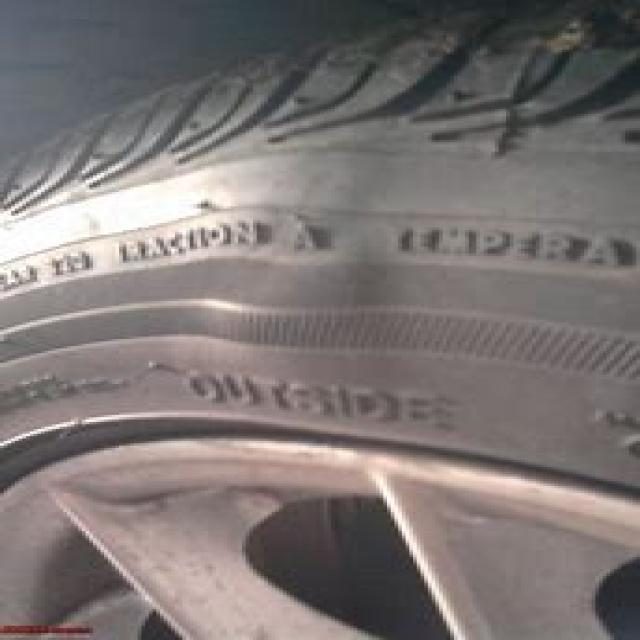Bulge: (178, 217, 401, 403)
